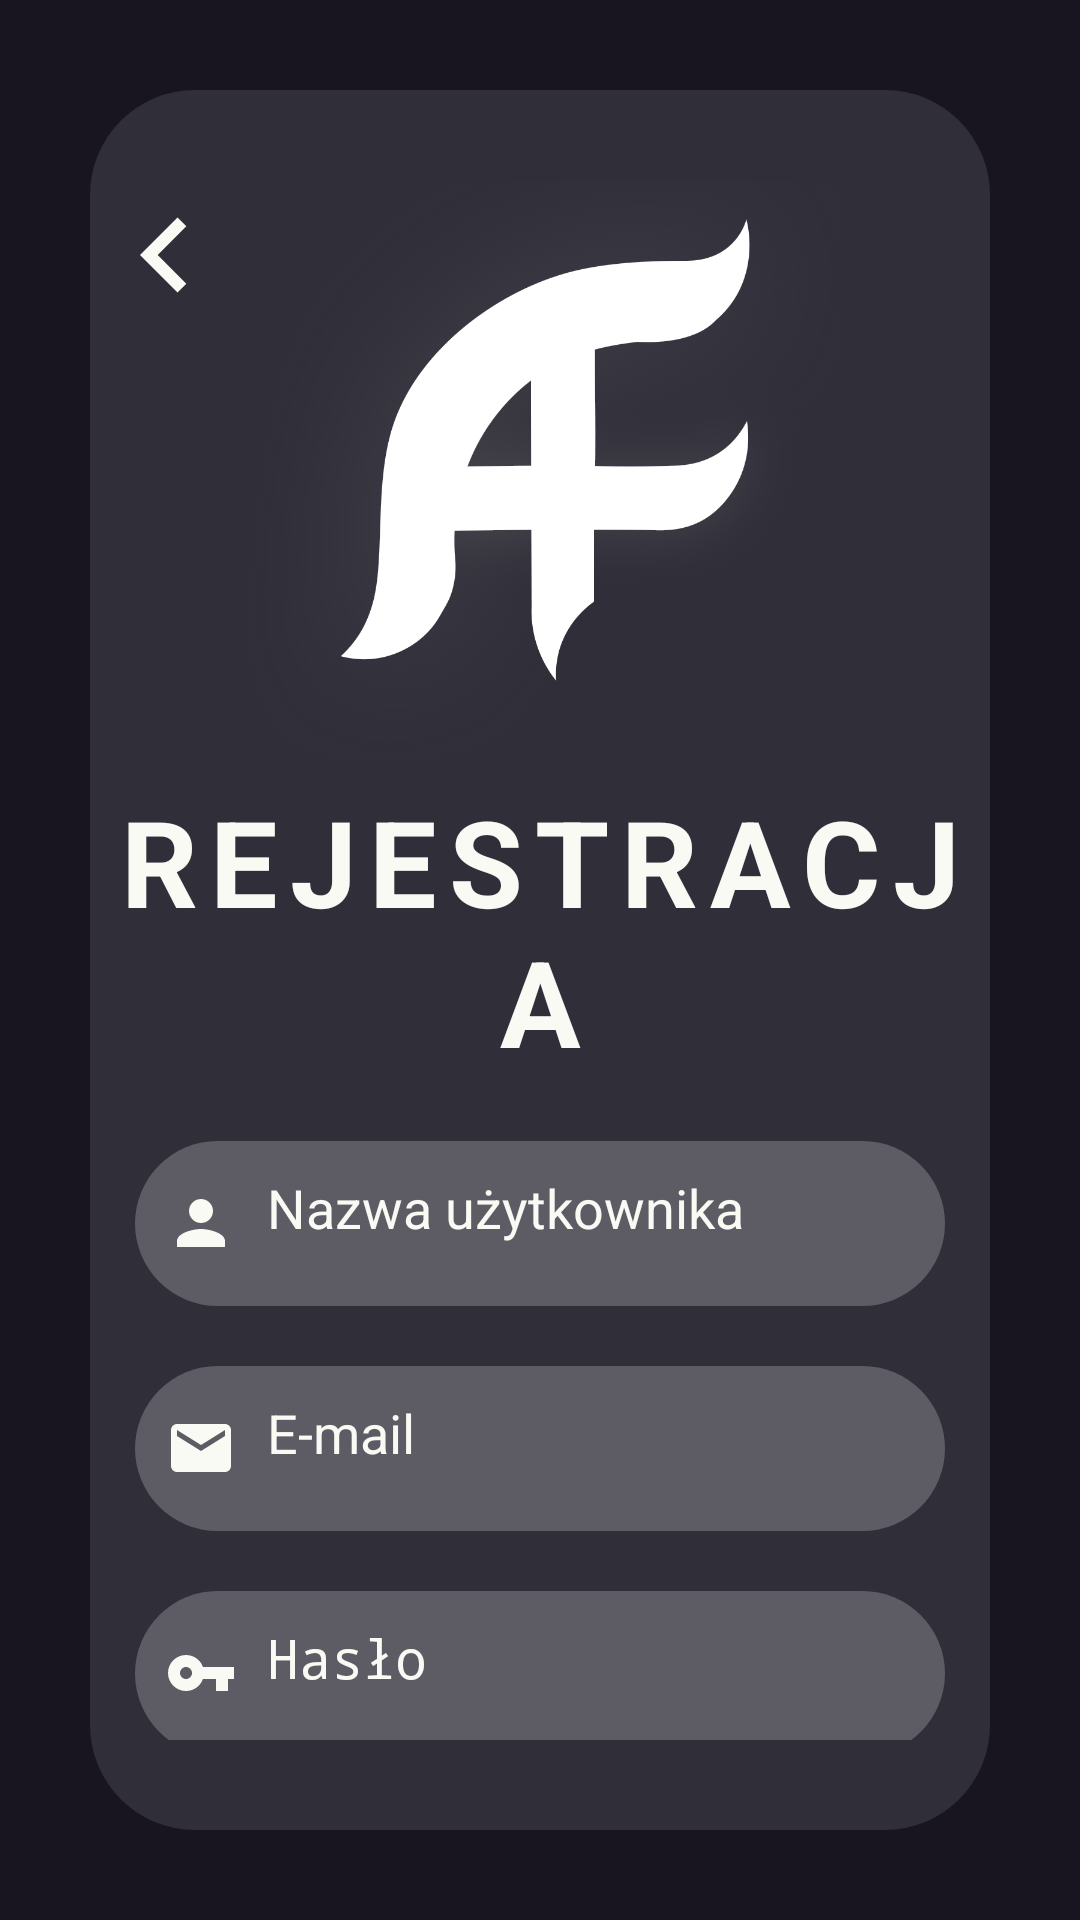

Point at icon controls on the screen. Image size 1080px x 1920px, points as (x=x, y=y).
keyboard arrow left: (x=163, y=255)
